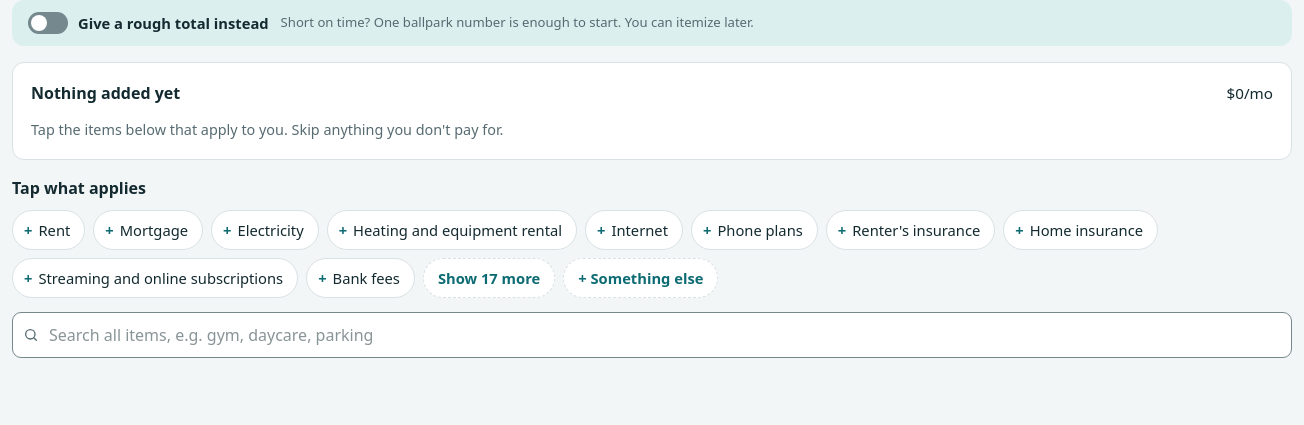
Scenario: ItemSearch › finds items from every bucket and names their bucket
Type "daycare" into the search field at (652, 335), box [12, 312, 1292, 358]
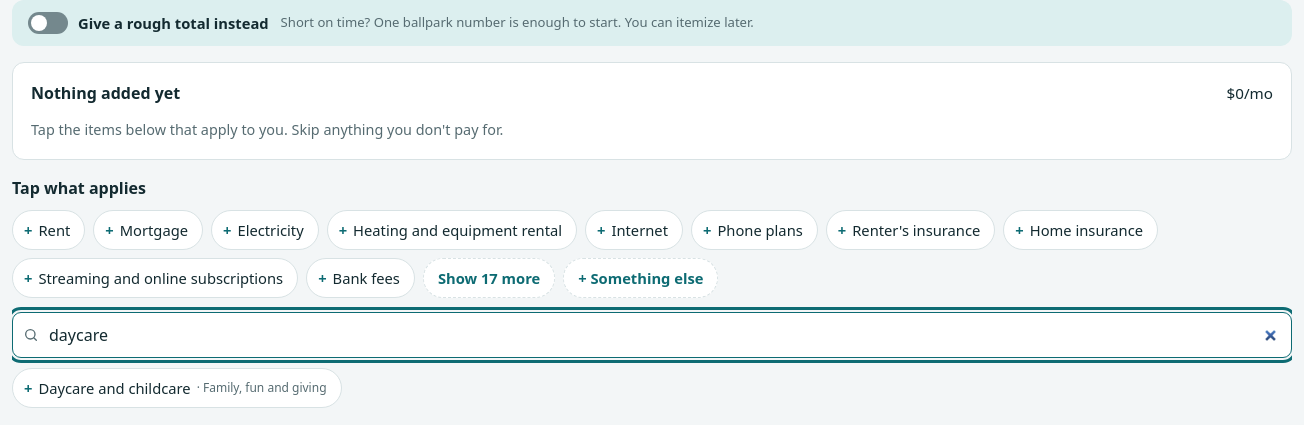
Expected: the button with aria-label "Add Daycare and childcare · Family, fun and giving" shows "· Family, fun and giving", [12, 368, 342, 408]
